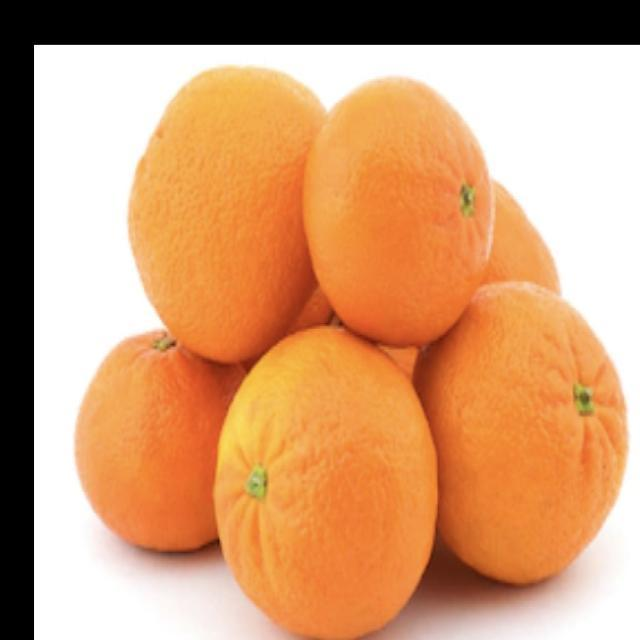Orange: (212, 324, 439, 639), (412, 279, 628, 586), (126, 64, 328, 365), (301, 74, 495, 346), (73, 328, 247, 553), (477, 177, 560, 296)
